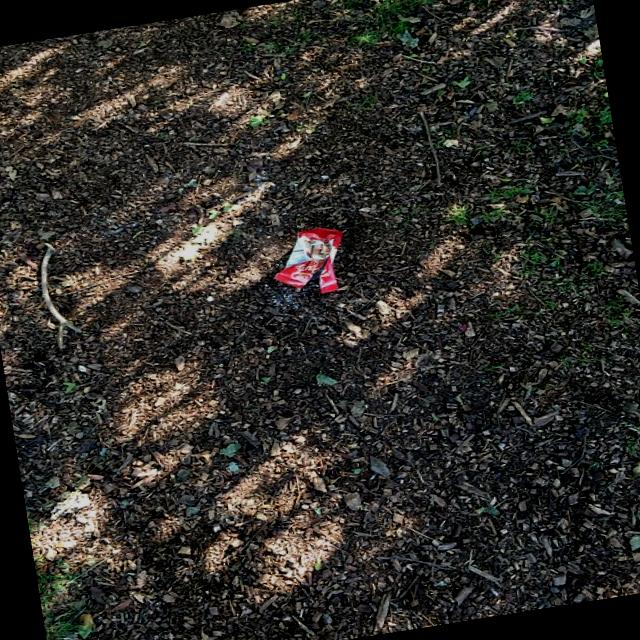Trash: (268, 220, 354, 305)
